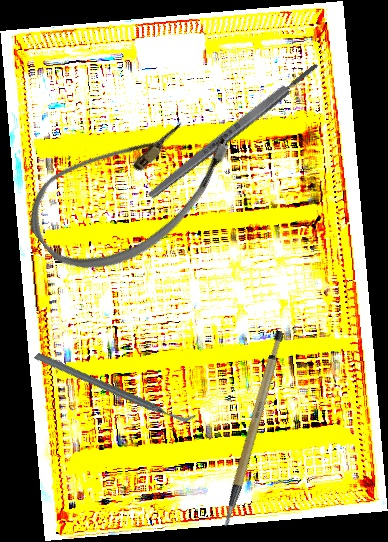Cannula: (12, 77, 249, 300)
Chopper: (33, 303, 197, 471)
Scalpel Handle: (144, 59, 323, 202), (192, 328, 310, 528)
